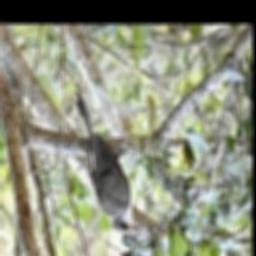Cuckoo: (75, 91, 137, 232)
